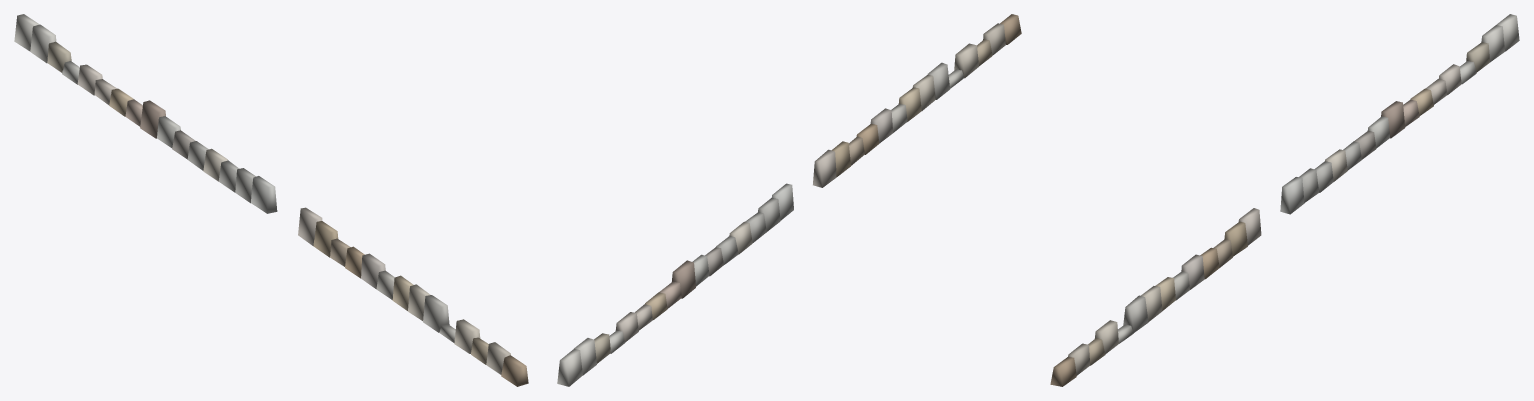
The model's file is farm_16_18_far.glb.
3 views of the same model, side by side, from view 1: azimuth 30°, elevation 25°; view 2: azimuth 150°, elevation 25°; view 3: azimuth 330°, elevation 25° (orthographic). The views are drawn at different scales.
Parts seen in each view (by area): view 1: geometry_0; view 2: geometry_0; view 3: geometry_0.
Part boxes in pixels (bbox=[...]): geometry_0: bbox=[14, 14, 528, 386]; geometry_0: bbox=[557, 14, 1021, 386]; geometry_0: bbox=[1050, 14, 1519, 386].
Size of the model in its own units: 1.77 by 1.68 by 49.83.
